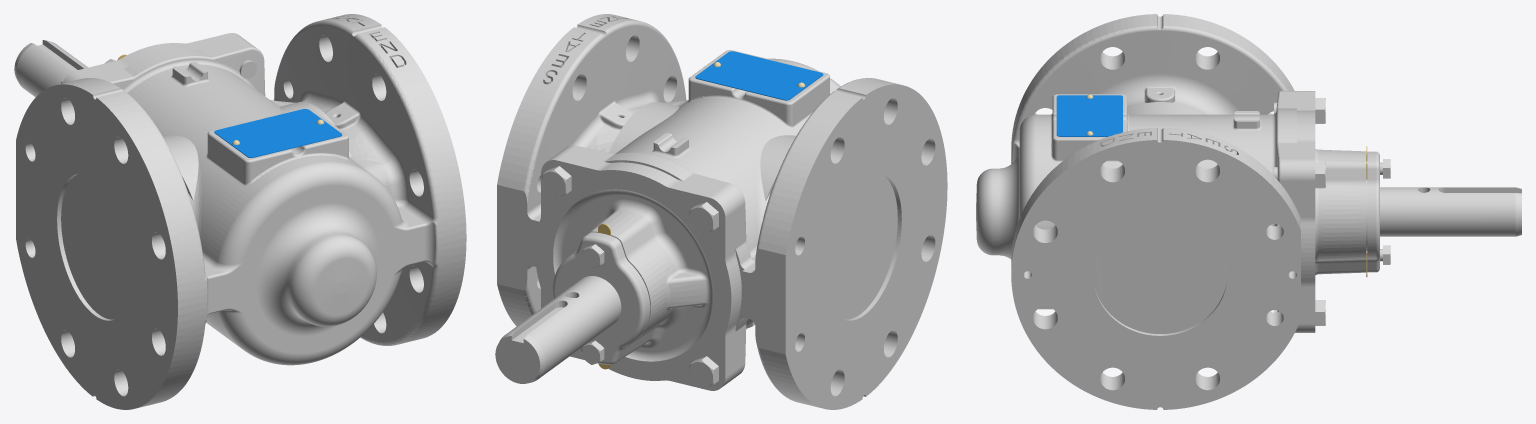
Rendered from plug.glb.
3 views of the same model, side by side, from view 1: azimuth 30°, elevation 25°; view 2: azimuth 150°, elevation 25°; view 3: azimuth 270°, elevation 25° (orthographic). The views are drawn at different scales.
Visible parts, largest first — view 1: Node1, Node3, Node2, Node4; view 2: Node1, Node3, Node2, Node4; view 3: Node2, Node3, Node1, Node4.
Boxes of the visible parts, <box> form: Node1: <box>16,33,423,409</box>; Node3: <box>14,33,423,408</box>; Node2: <box>270,14,466,345</box>; Node4: <box>214,108,342,157</box>; Node1: <box>497,50,947,409</box>; Node3: <box>495,35,935,408</box>; Node2: <box>497,14,688,326</box>; Node4: <box>695,51,823,100</box>; Node2: <box>1011,128,1300,409</box>; Node3: <box>976,14,1521,335</box>; Node1: <box>1013,14,1315,332</box>; Node4: <box>1056,95,1122,136</box>.
Bounding box in the file's own units: 229 × 229 × 419.
